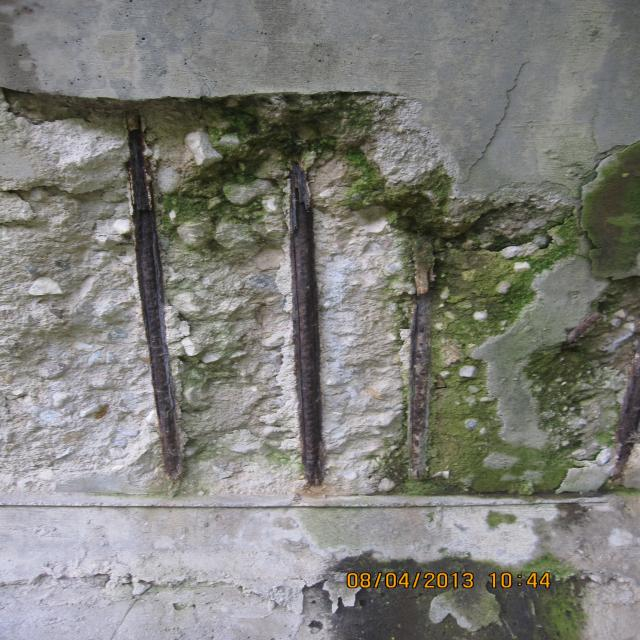corrosion: (103, 84, 217, 490), (276, 144, 352, 494), (564, 246, 640, 498), (394, 182, 456, 482)
